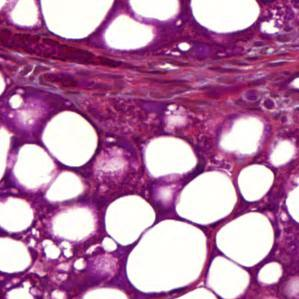steatosis: (177, 168, 241, 222), (40, 110, 100, 167), (215, 212, 278, 261), (100, 195, 155, 248), (236, 164, 271, 199)
